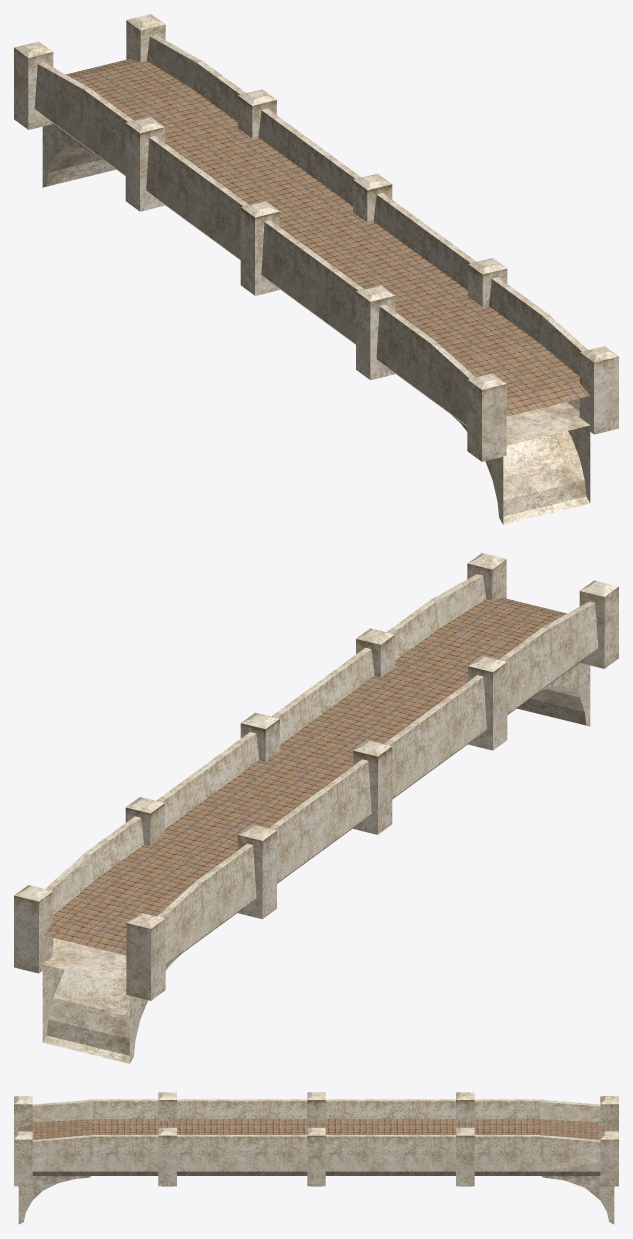
The model's file is thm_tato_imprv_bridge_sml_s03_l1.fbx.
3 renders of one model, top to bottom at view 1: azimuth 30°, elevation 25°; view 2: azimuth 150°, elevation 25°; view 3: azimuth 270°, elevation 25°, orthographic. The views are drawn at different scales.
Parts seen in each view (by area): view 1: mesh_node; view 2: mesh_node; view 3: mesh_node.
Part boxes in pixels (bbox=[...]): mesh_node: bbox=[14, 14, 618, 524]; mesh_node: bbox=[14, 553, 618, 1063]; mesh_node: bbox=[14, 1092, 618, 1224].
Bounding box in the file's own units: 5.5 × 5.86 × 32.5.
